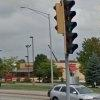Traffic light: (46, 2, 85, 63)
